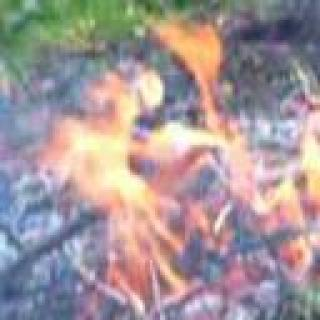fire: (36, 21, 320, 294)
